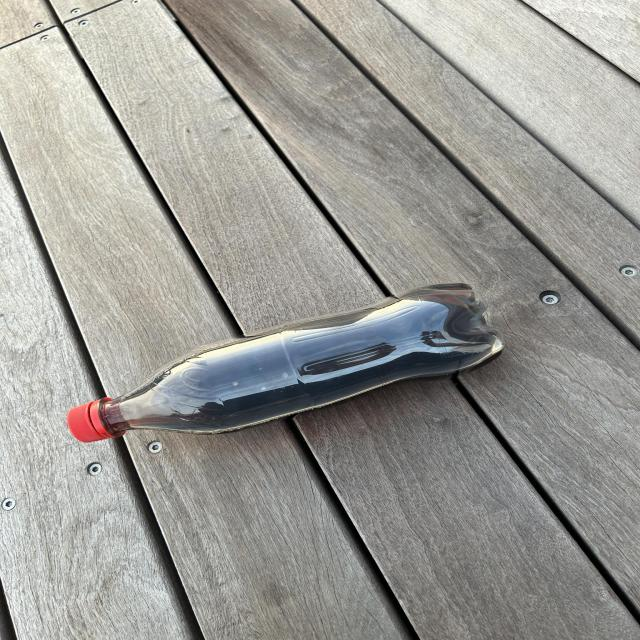medium: (68, 284, 502, 442)
